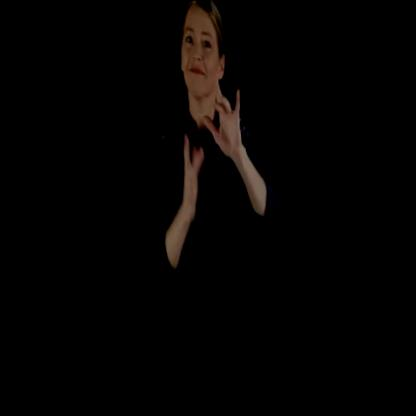Internet: (155, 76, 263, 233)
